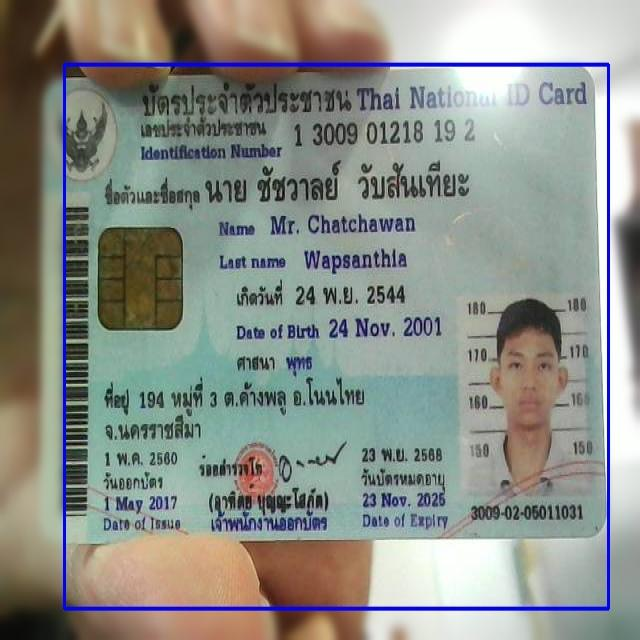Address_th: (97, 374, 377, 445)
Date_of_Birth: (327, 312, 444, 343)
Date_of_Expiry: (360, 488, 450, 512)
Date_of_Issue: (101, 492, 186, 515)
First_Name: (268, 209, 417, 240)
ID_Number: (290, 117, 480, 150)
Image: (455, 291, 593, 499)
Last_Name: (301, 244, 410, 276)
Thai_Name: (202, 158, 475, 210)
